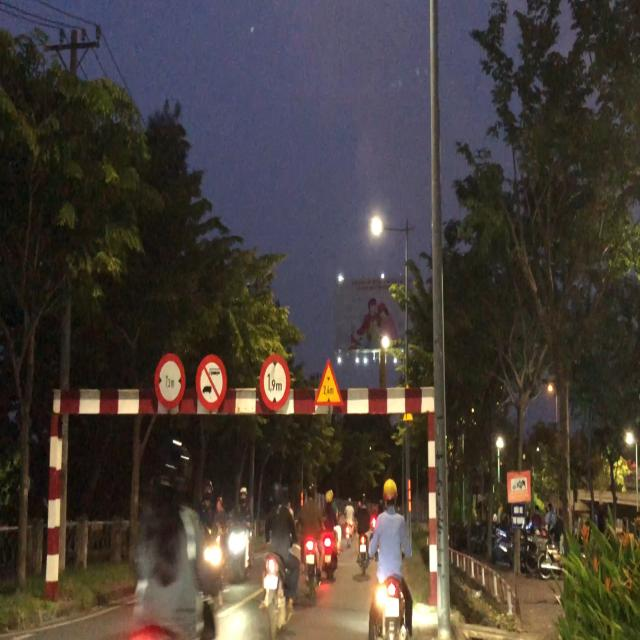Bien bao cam xe oto khach va xe oto tai: (193, 347, 231, 421)
Bien bao chieu cao tinh khong thuc te: (311, 353, 345, 411)
Bien bao han che chieu cao: (258, 349, 292, 411)
